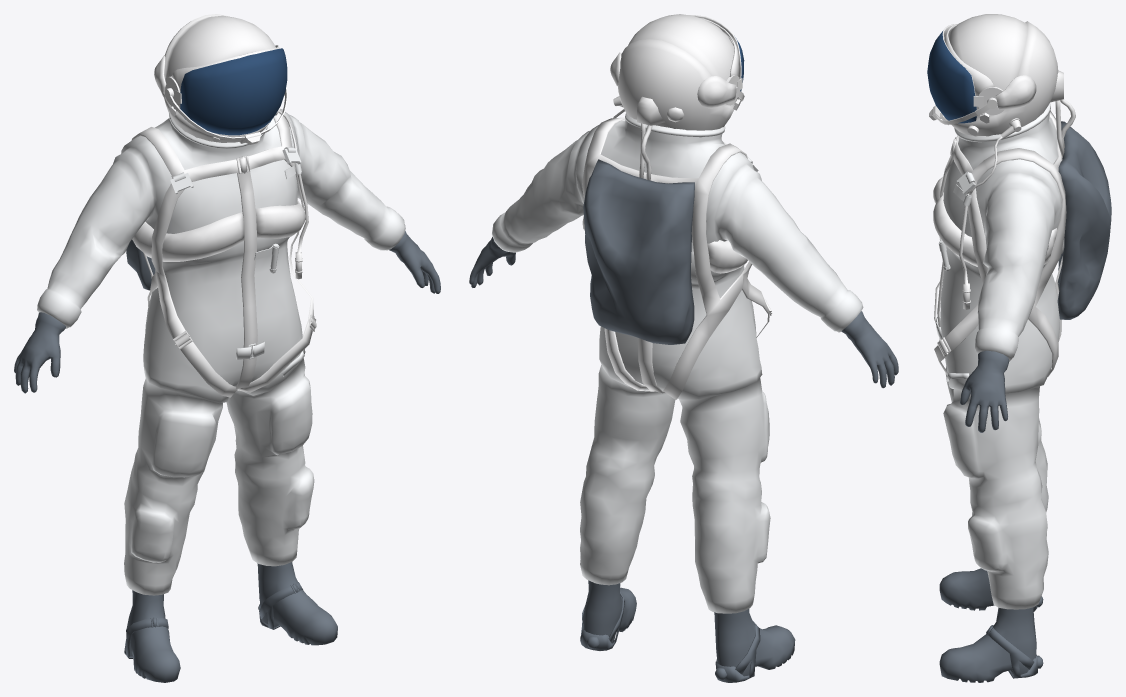
The model's file is lusion_astronaut.glb.
3 renders of one model, left to right at view 1: azimuth 30°, elevation 25°; view 2: azimuth 150°, elevation 25°; view 3: azimuth 270°, elevation 25°, orthographic.
Visible parts, largest first — view 1: wearpack, helmet, glove_shoes, helmet_glass; view 2: wearpack, glove_shoes, helmet; view 3: wearpack, helmet, glove_shoes, helmet_glass.
Boxes of the visible parts, x1,y1,x2,y2 form: wearpack: (37,109,405,595); helmet: (131,14,316,397); glove_shoes: (14,135,440,682); helmet_glass: (180,48,287,135); wearpack: (492,113,863,613); glove_shoes: (469,159,898,682); helmet: (582,14,771,399); wearpack: (936,103,1064,609); helmet: (929,14,1075,376); glove_shoes: (939,121,1111,682); helmet_glass: (927,31,976,123).
Size of the model in its own units: 1.29 by 1.86 by 0.501.
